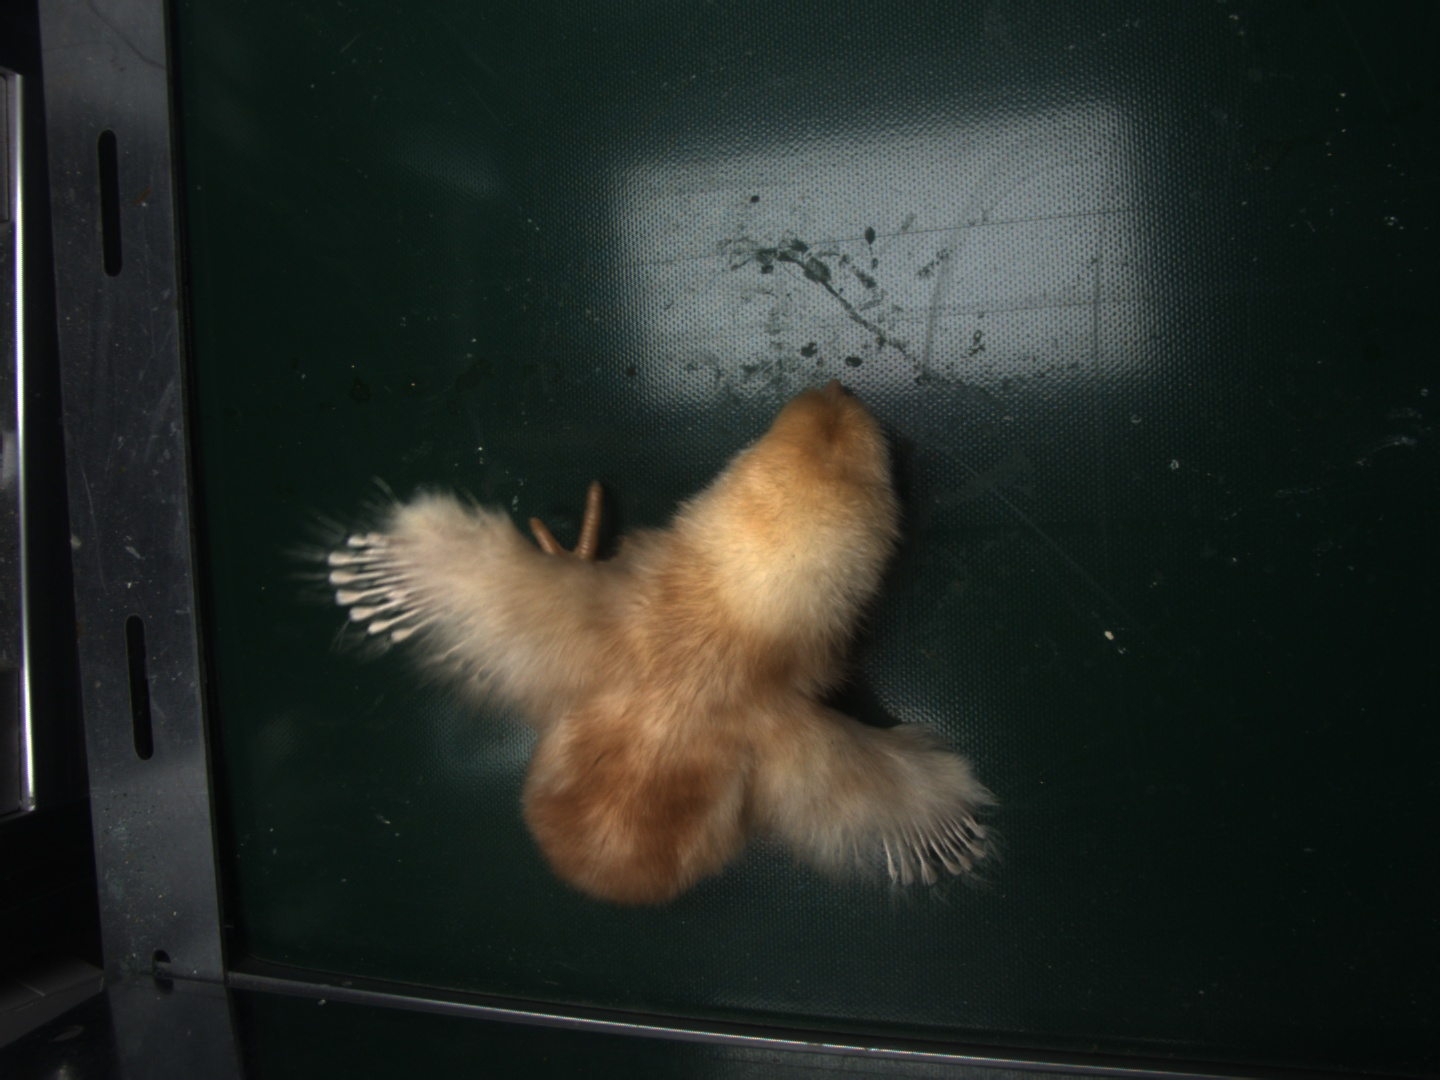female: (322, 528, 434, 639), (883, 805, 990, 886)
